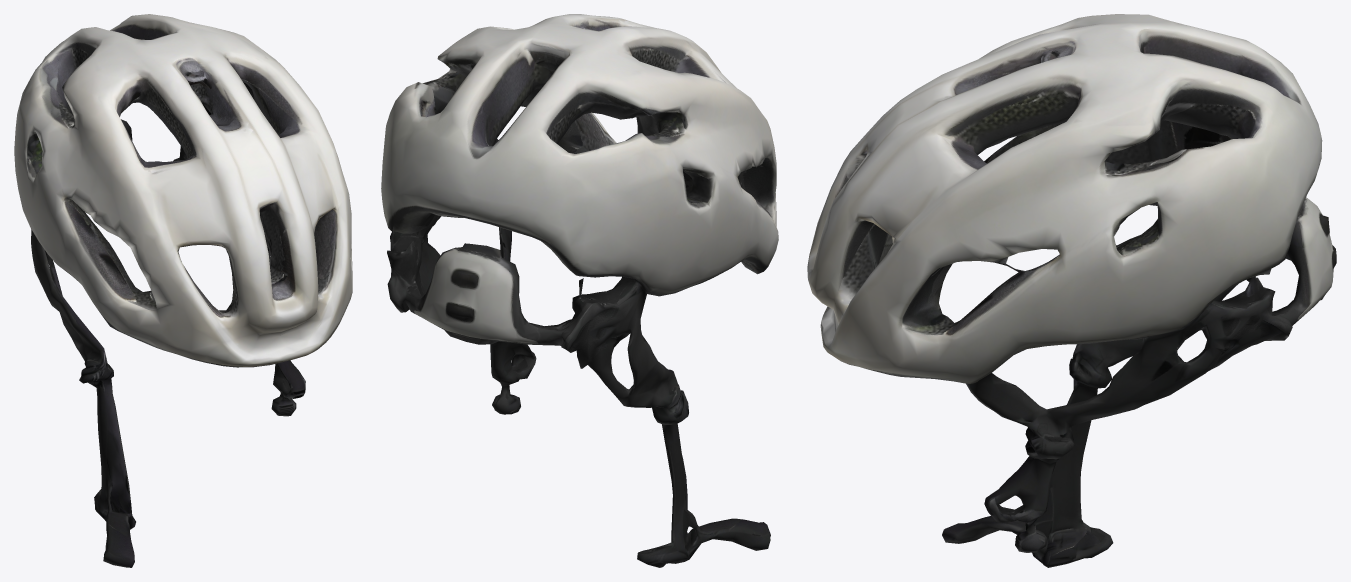
The model's file is Cycling_Helmet_0421165650_texture.glb.
3 renders of one model, left to right at view 1: azimuth 30°, elevation 25°; view 2: azimuth 150°, elevation 25°; view 3: azimuth 270°, elevation 25°, orthographic. The views are drawn at different scales.
Size of the model in its own units: 1.24 by 1.99 by 1.68.
Materials: 1 (1 with a texture image).
